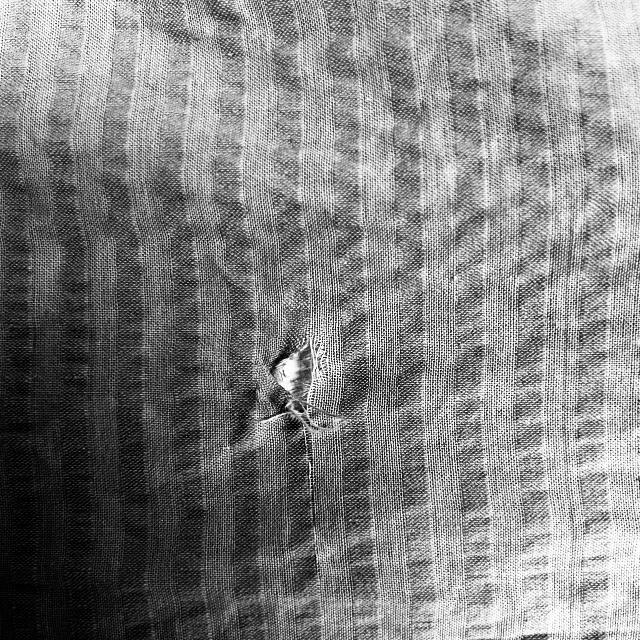Hole: (253, 331, 330, 433)
